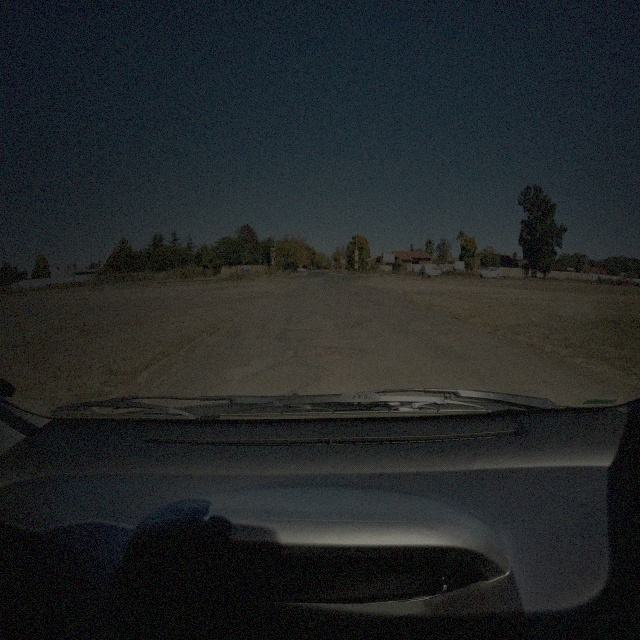pothole: (300, 342, 363, 360), (429, 325, 457, 336), (337, 320, 360, 330)
